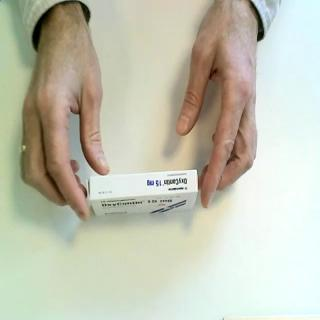oxycontin15mg: (87, 168, 201, 219)
